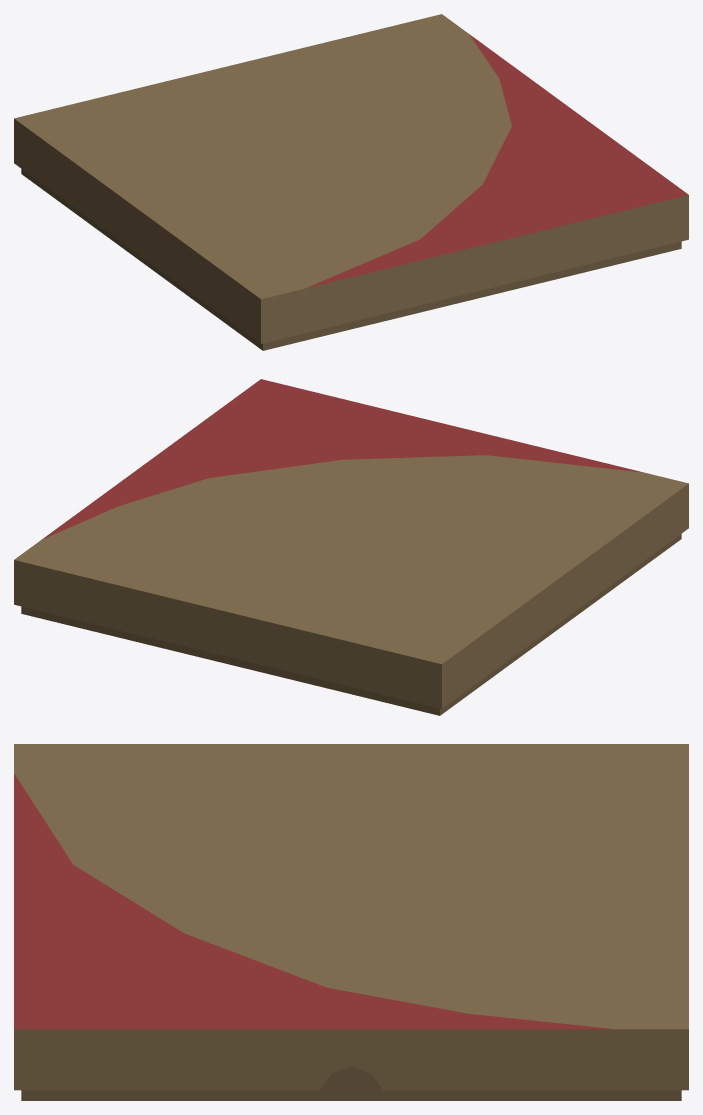
The model's file is SM_Props_Interior_SuperMarket_Item_Food_Pack_03.fbx.
The picture shows the model from 3 angles, top to bottom: view 1: azimuth 30°, elevation 25°; view 2: azimuth 150°, elevation 25°; view 3: azimuth 270°, elevation 25°; orthographic projection. The views are drawn at different scales.
Visible parts, largest first — view 1: SM_Props_Interior_SuperMarket_Item_Food_Pack_03; view 2: SM_Props_Interior_SuperMarket_Item_Food_Pack_03; view 3: SM_Props_Interior_SuperMarket_Item_Food_Pack_03.
Part boxes in pixels (box(x1,y1,x2,y2)): SM_Props_Interior_SuperMarket_Item_Food_Pack_03: box(14, 14, 688, 350); SM_Props_Interior_SuperMarket_Item_Food_Pack_03: box(14, 379, 688, 715); SM_Props_Interior_SuperMarket_Item_Food_Pack_03: box(14, 744, 688, 1100).
Size of the model in its own units: 29.44 by 3.6 by 29.44.
